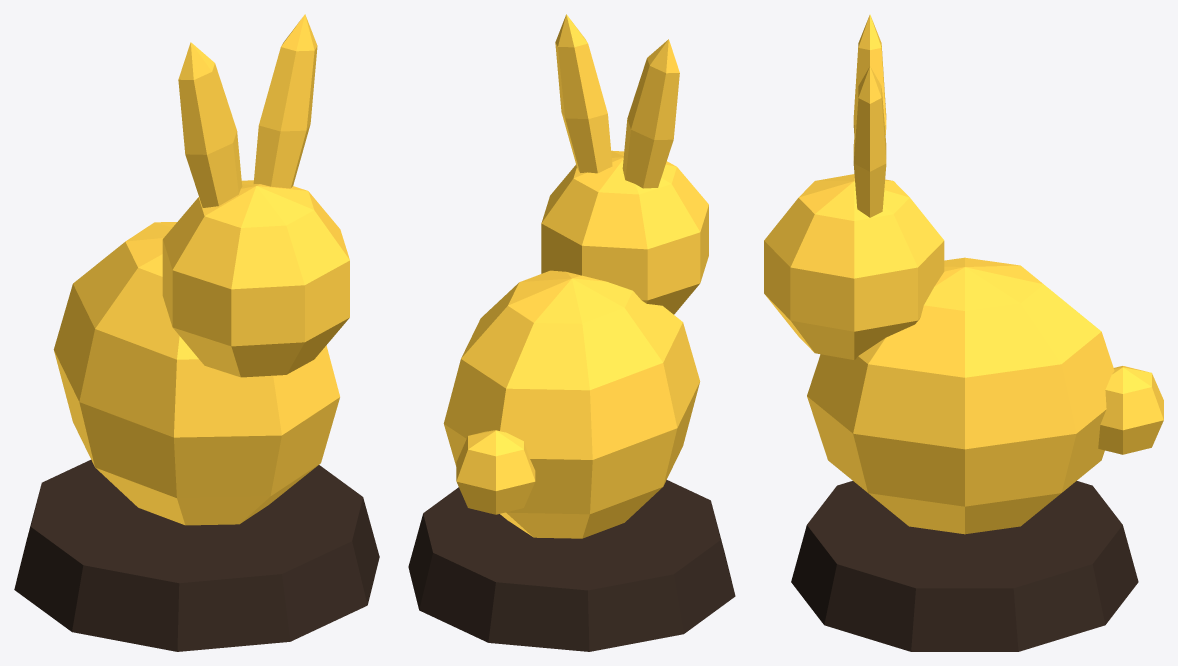
File: golden_rabbit.glb
The picture shows the model from 3 angles, left to right: view 1: azimuth 30°, elevation 25°; view 2: azimuth 150°, elevation 25°; view 3: azimuth 270°, elevation 25°; orthographic projection. The views are drawn at different scales.
Visible parts, largest first — view 1: rabbit_gold, base_rabbit_base; view 2: rabbit_gold, base_rabbit_base; view 3: rabbit_gold, base_rabbit_base.
Boxes of the visible parts, left/top/right/bottom form: rabbit_gold: left=53, top=14, right=349, bottom=525; base_rabbit_base: left=14, top=460, right=379, bottom=651; rabbit_gold: left=443, top=14, right=708, bottom=538; base_rabbit_base: left=408, top=480, right=735, bottom=651; rabbit_gold: left=764, top=14, right=1163, bottom=534; base_rabbit_base: left=791, top=481, right=1138, bottom=651.
Size of the model in its own units: 0.2092 by 0.3786 by 0.253.
